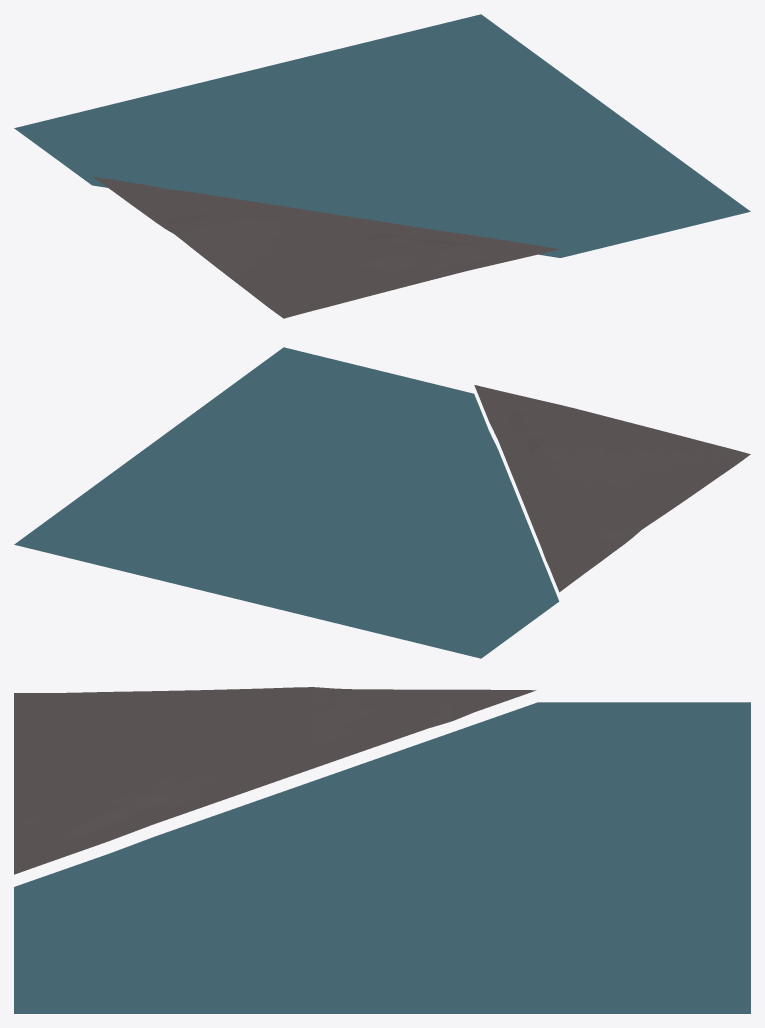
3 renders of one model, top to bottom at view 1: azimuth 30°, elevation 25°; view 2: azimuth 150°, elevation 25°; view 3: azimuth 270°, elevation 25°, orthographic. The views are drawn at different scales.
Parts seen in each view (by area): view 1: c_p01_p04; view 2: c_p01_p04; view 3: c_p01_p04.
Part boxes in pixels (box(x1,y1,x2,y2)): c_p01_p04: box(14, 14, 750, 318); c_p01_p04: box(14, 347, 750, 658); c_p01_p04: box(14, 687, 750, 1013).
Bounding box in the file's own units: 128 × 3.16 × 128.
